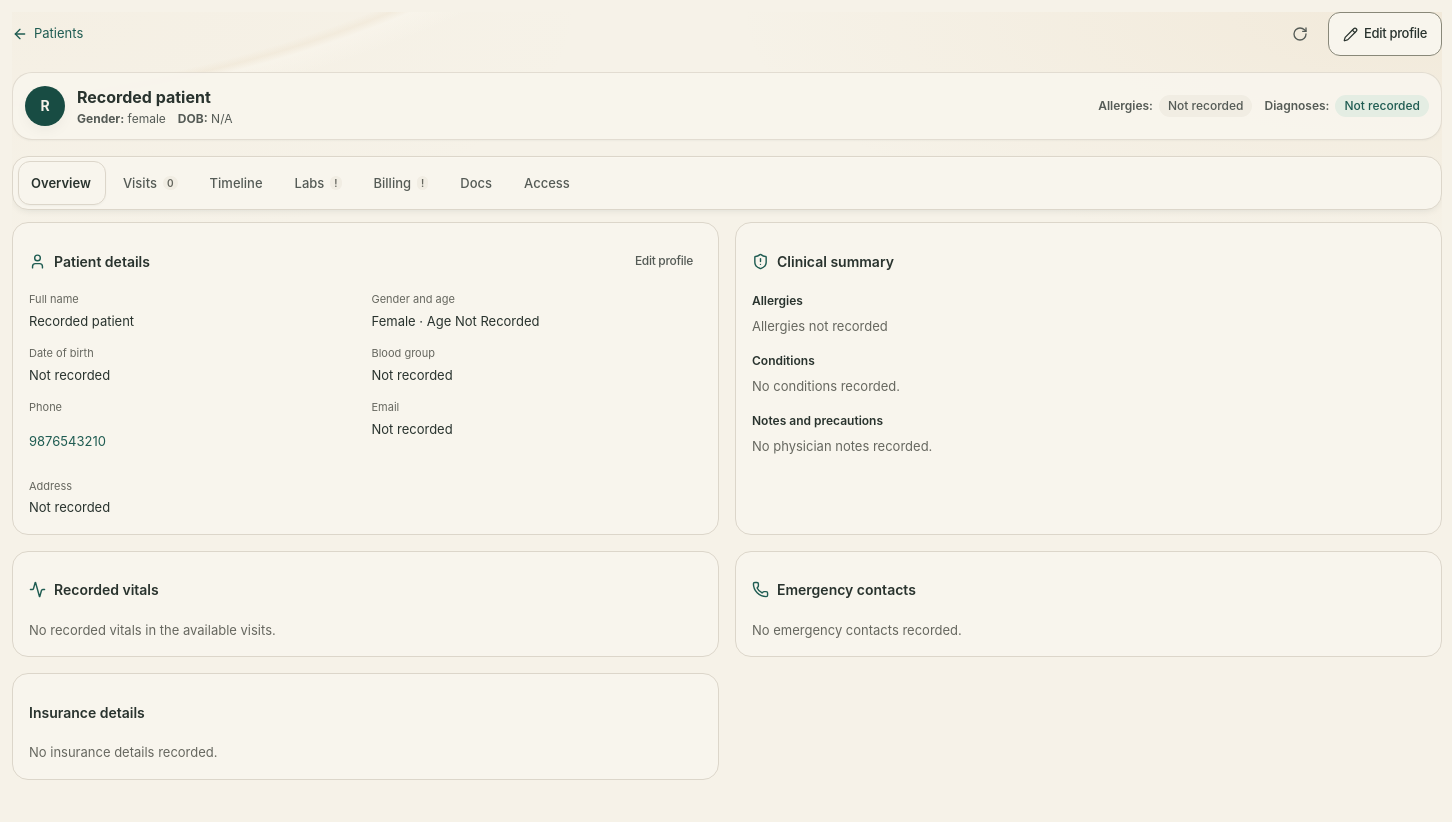
Scenario: distinguishes failed auxiliary requests from empty lab and billing histories
Click the tab "Labs !".
click(318, 183)  # box [280,161,356,205]
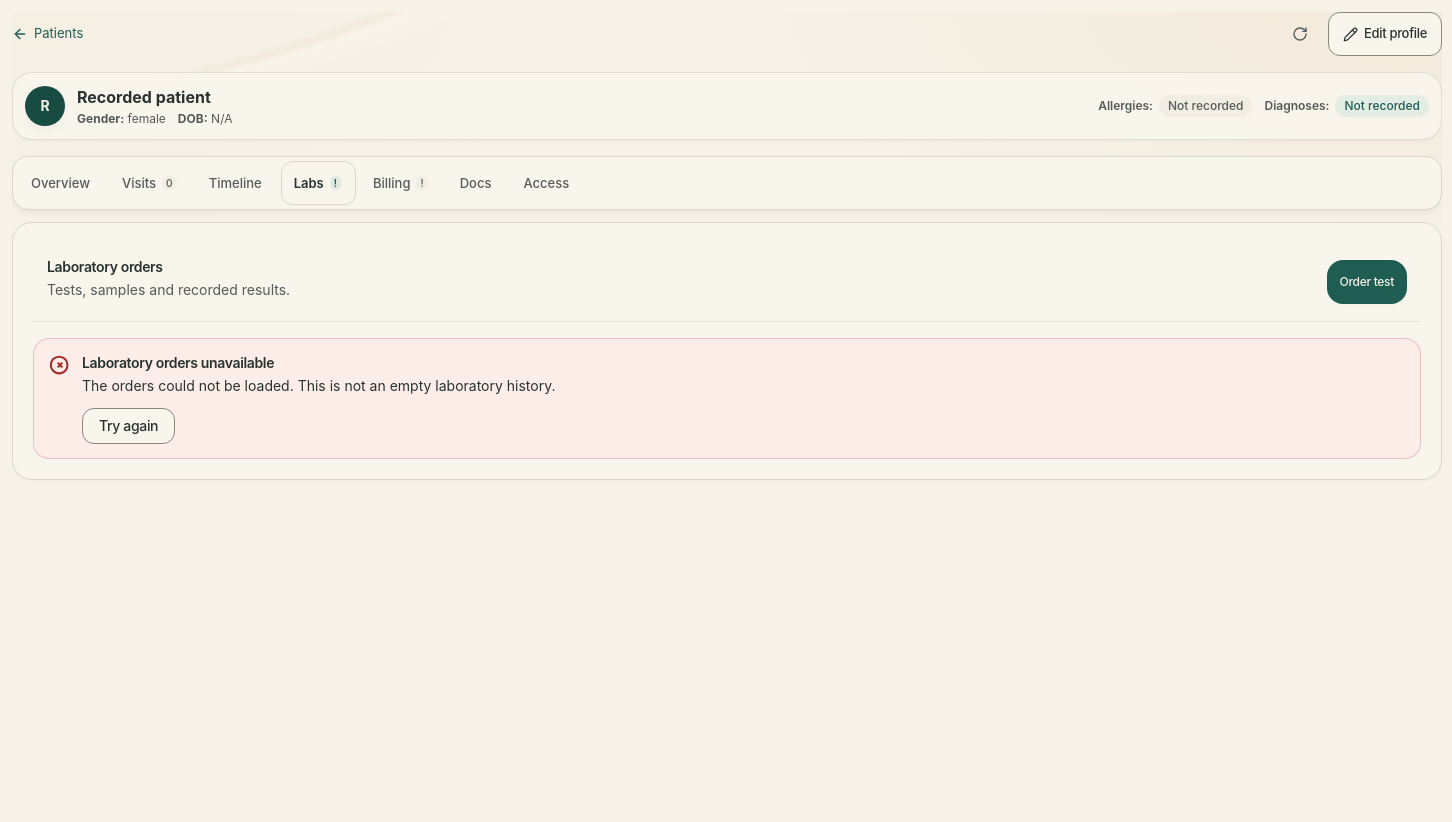
Result: the text "Laboratory orders unavailable" is shown at [82,354,274,371]
Click the tab "Billing !".
click(400, 183)  # box [359,161,442,205]
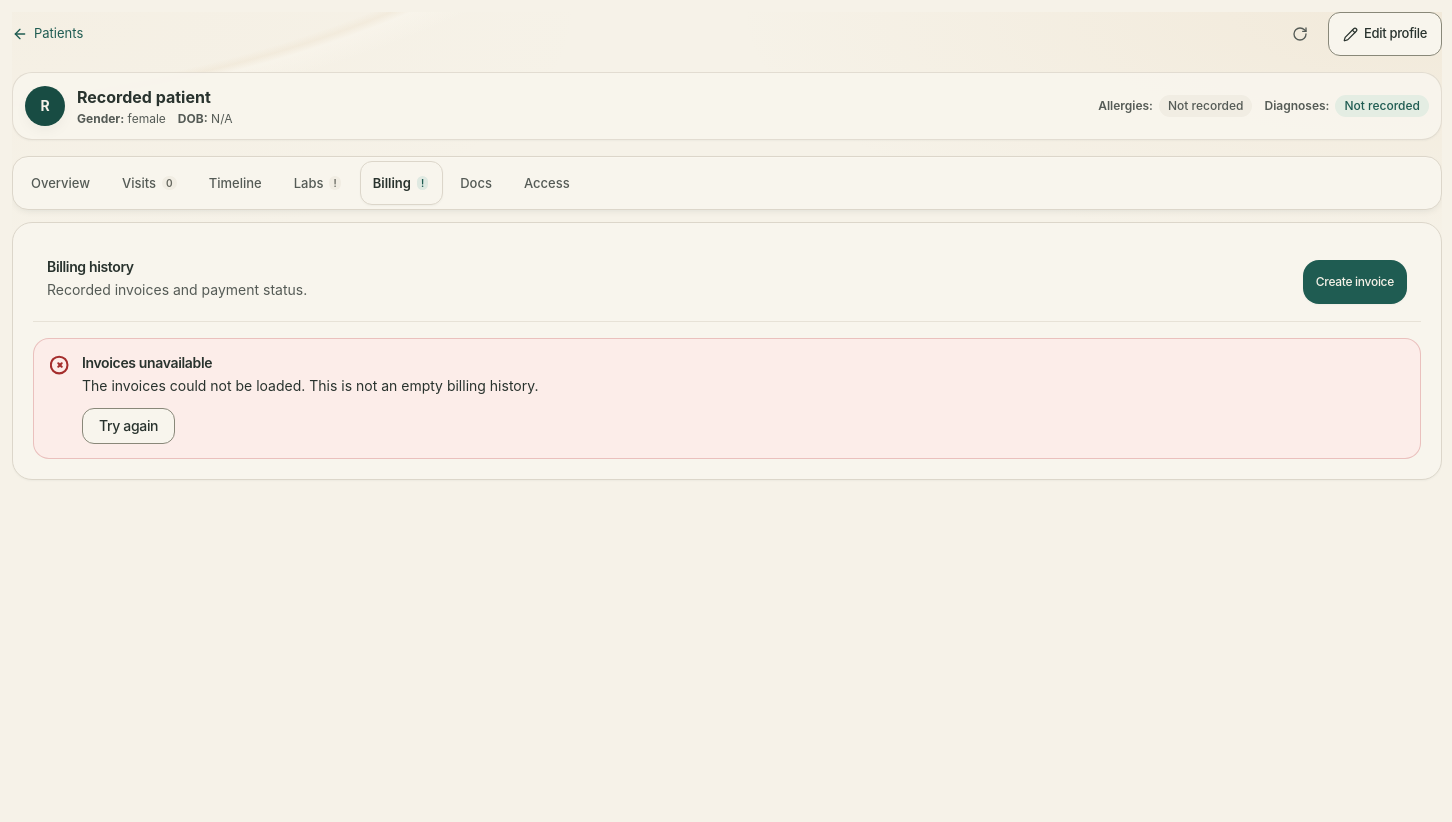
Result: the text "Invoices unavailable" is shown at [82,354,212,371]
